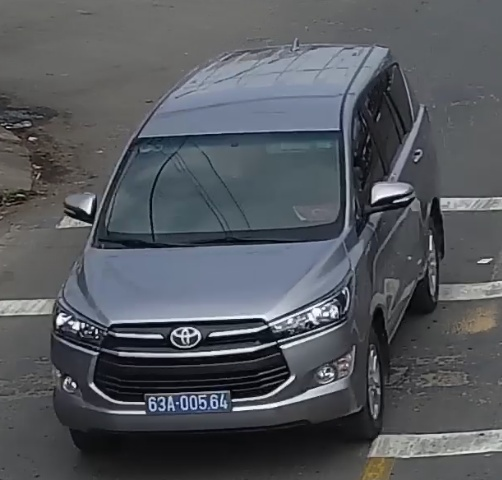vehicle plate: (137, 387, 234, 415)
